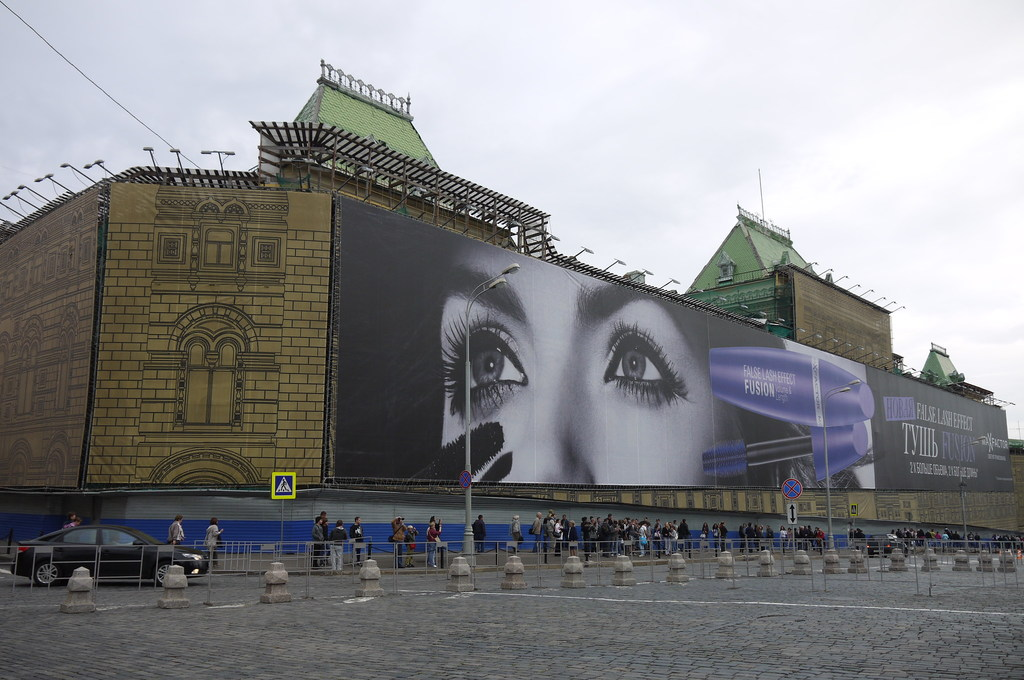mobil: (5, 521, 211, 584)
